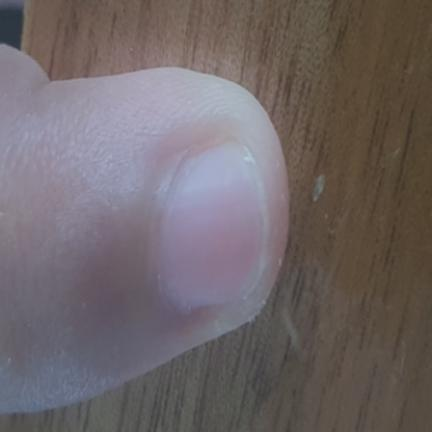Nail: (159, 139, 269, 307)
